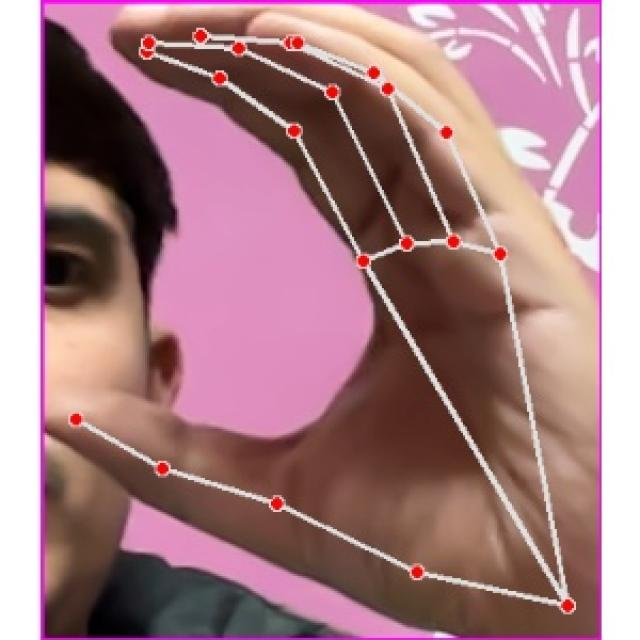C: (62, 6, 602, 640)
